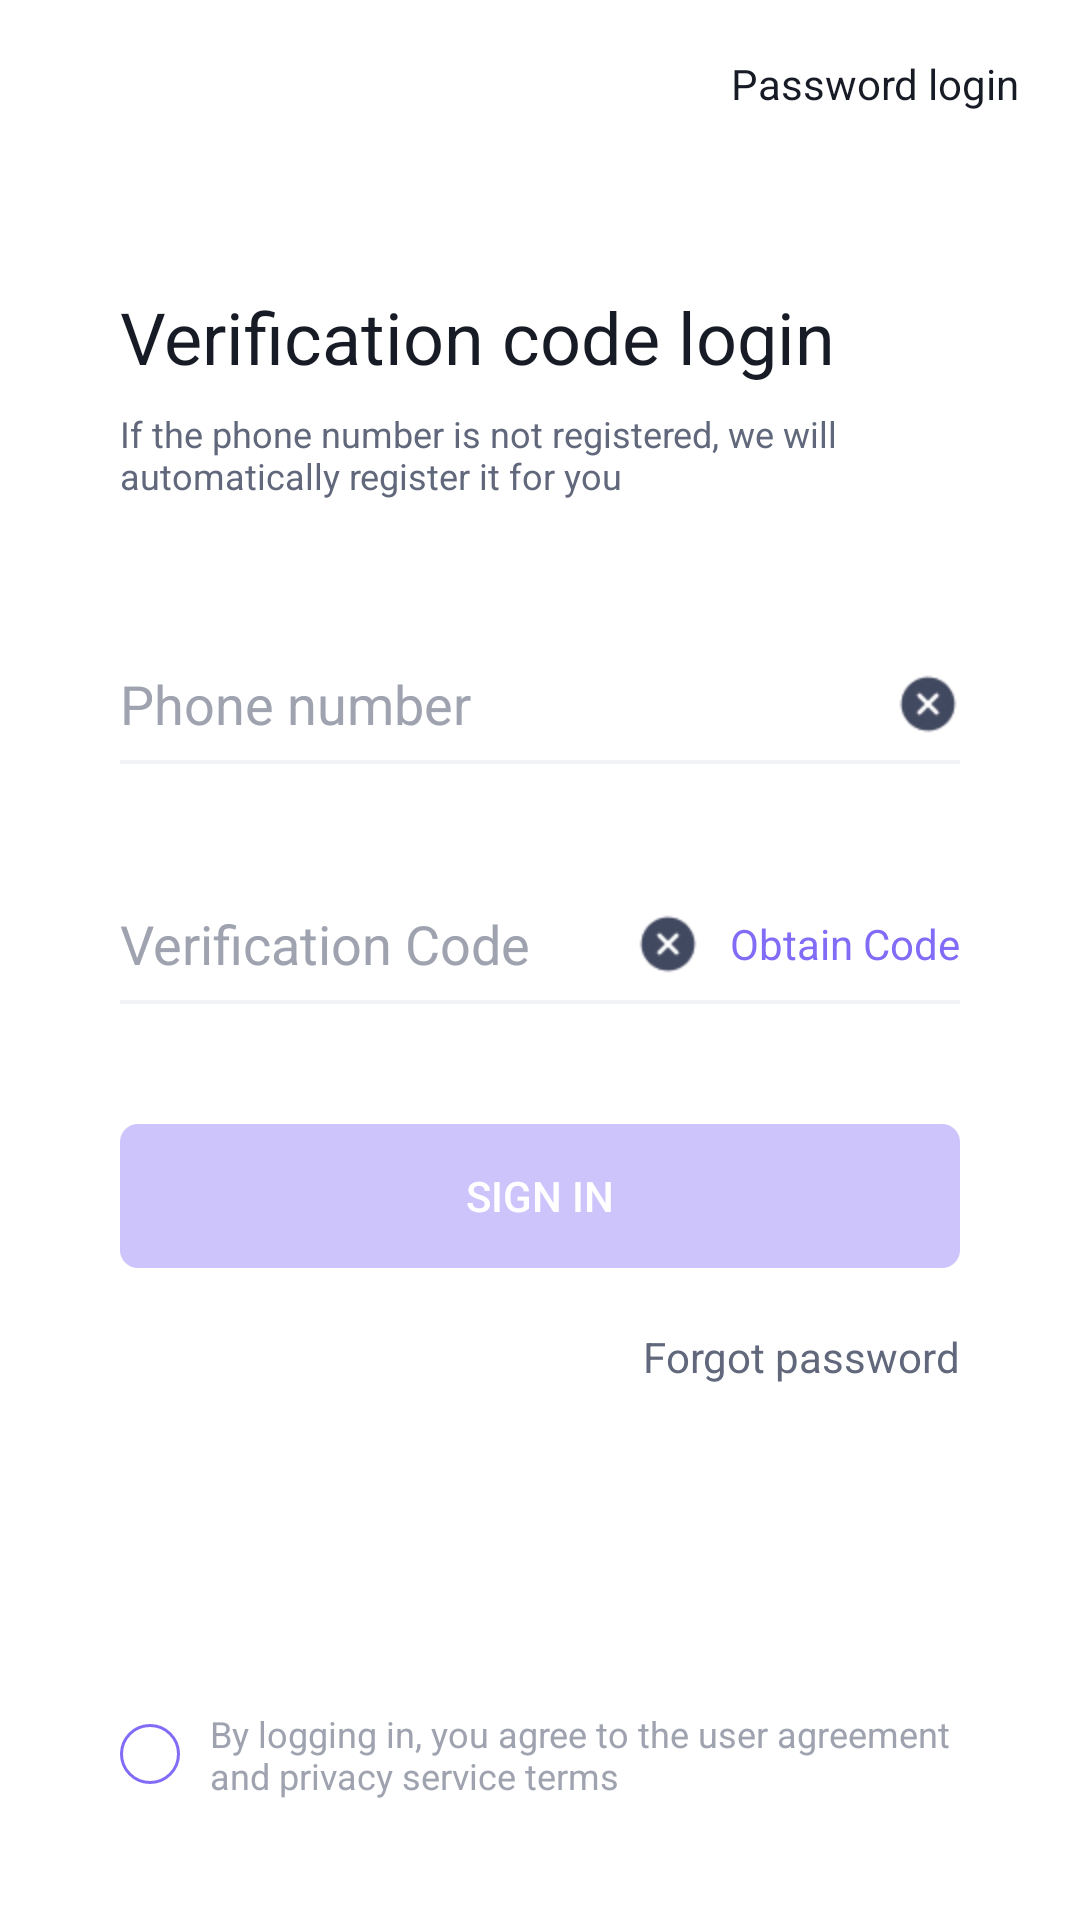

Named icons in this screenshot (1080 x 1920) and their bounding boxes, bbox=[x1, y1, x2, y2]:
checkbox: bbox=[120, 1724, 180, 1784]
clear: bbox=[900, 676, 956, 732], bbox=[640, 916, 696, 972]
